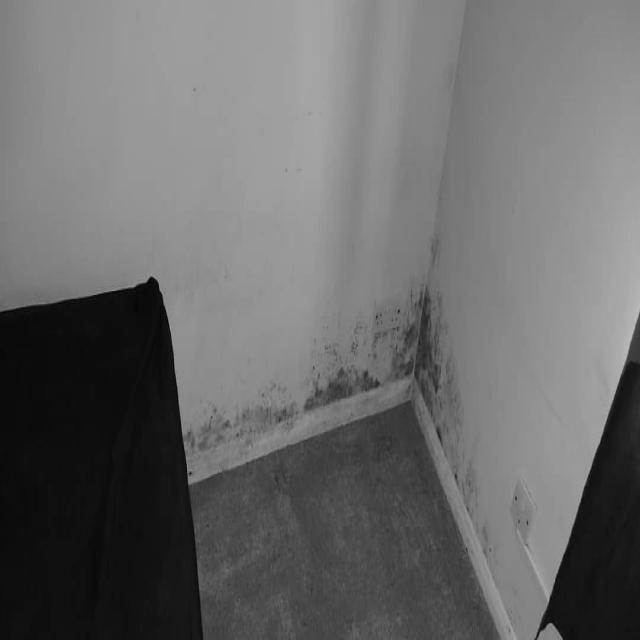stain marks: (181, 270, 424, 496), (424, 189, 524, 639), (530, 366, 571, 449), (1, 270, 84, 306), (585, 344, 618, 401), (271, 155, 308, 194), (275, 100, 339, 120), (183, 78, 203, 98)
